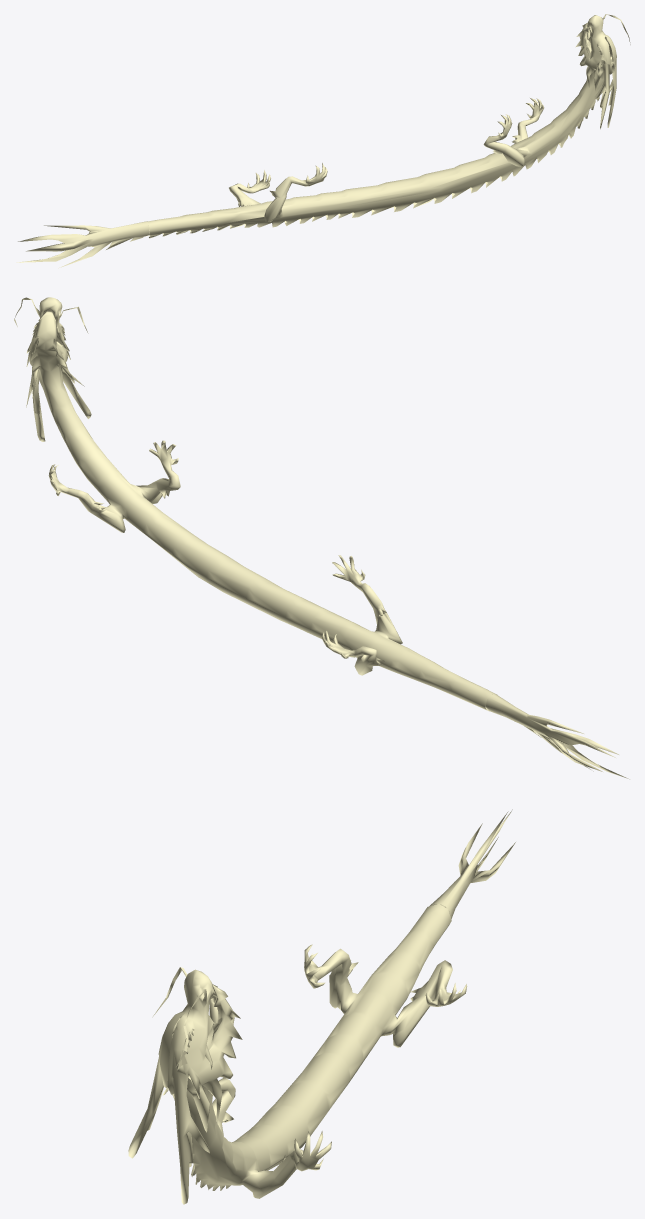
Rendered from effect_rong2.fbx.
3 views of the same model, one above another, from view 1: azimuth 30°, elevation 25°; view 2: azimuth 150°, elevation 25°; view 3: azimuth 270°, elevation 25° (orthographic). The views are drawn at different scales.
Visible parts, largest first — view 1: effect_rong2; view 2: effect_rong2; view 3: effect_rong2.
Boxes of the visible parts, x1=… form: effect_rong2: x1=16, y1=14, x2=630, y2=268; effect_rong2: x1=14, y1=297, x2=629, y2=779; effect_rong2: x1=128, y1=809, x2=515, y2=1204.
Size of the model in its own units: 15.84 by 5.31 by 4.97.
